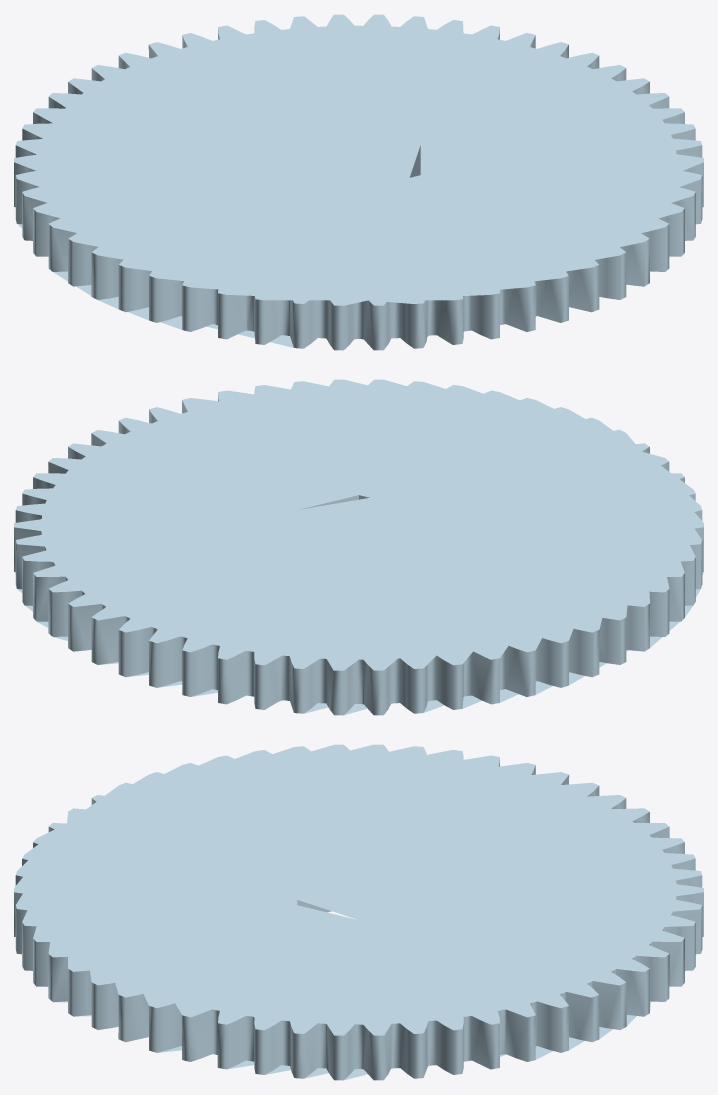
Rendered from hex54t.fbx.
3 views of the same model, one above another, from view 1: azimuth 30°, elevation 25°; view 2: azimuth 150°, elevation 25°; view 3: azimuth 270°, elevation 25° (orthographic).
Visible parts, largest first — view 1: Spur gear (54 teeth); view 2: Spur gear (54 teeth); view 3: Spur gear (54 teeth).
Part boxes in pixels (x1,y1,x2,y2): Spur gear (54 teeth): [14, 14, 703, 350]; Spur gear (54 teeth): [14, 379, 703, 715]; Spur gear (54 teeth): [14, 744, 703, 1080].
Bounding box in the file's own units: 7.11 × 0.508 × 7.11.
